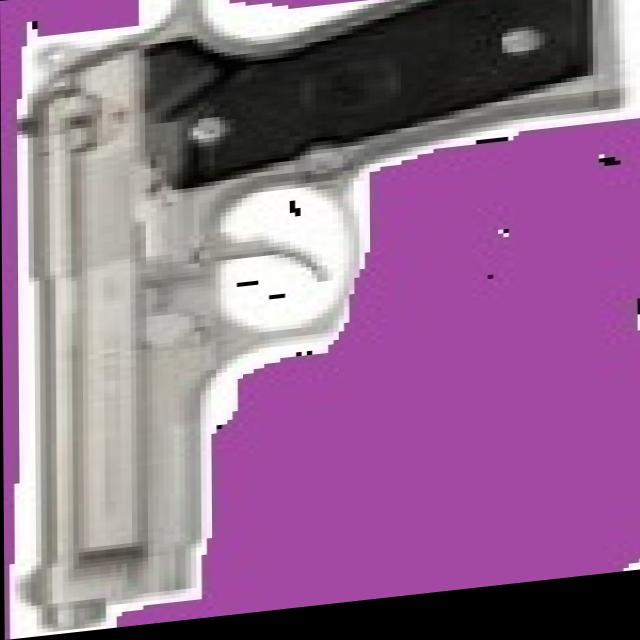handgun: (1, 0, 622, 624)
